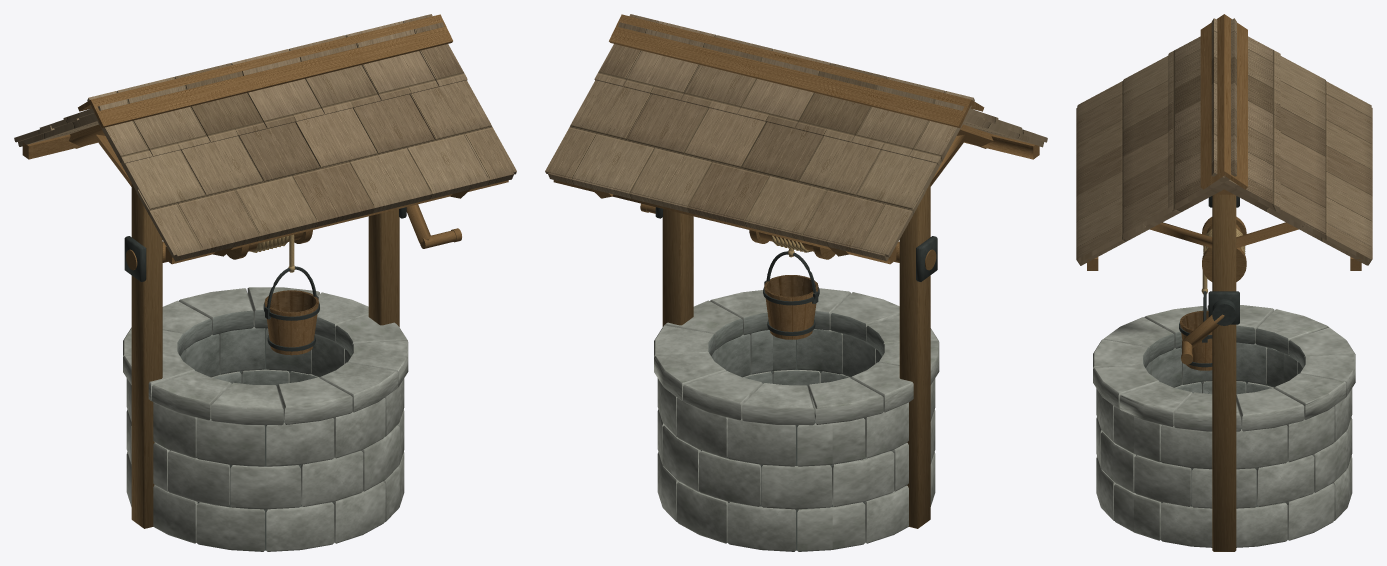
File: village_well.glb
3 renders of one model, left to right at view 1: azimuth 30°, elevation 25°; view 2: azimuth 150°, elevation 25°; view 3: azimuth 270°, elevation 25°, orthographic. The views are drawn at different scales.
Parts seen in each view (by area): view 1: Old_Village_Well; view 2: Old_Village_Well; view 3: Old_Village_Well.
Part boxes in pixels (x1,y1,x2,y2): Old_Village_Well: (14, 14, 516, 551); Old_Village_Well: (545, 14, 1047, 551); Old_Village_Well: (1076, 14, 1372, 551).
Bounding box in the file's own units: 2.67 × 3.19 × 2.13.
Materials: 1 (1 with a texture image).
